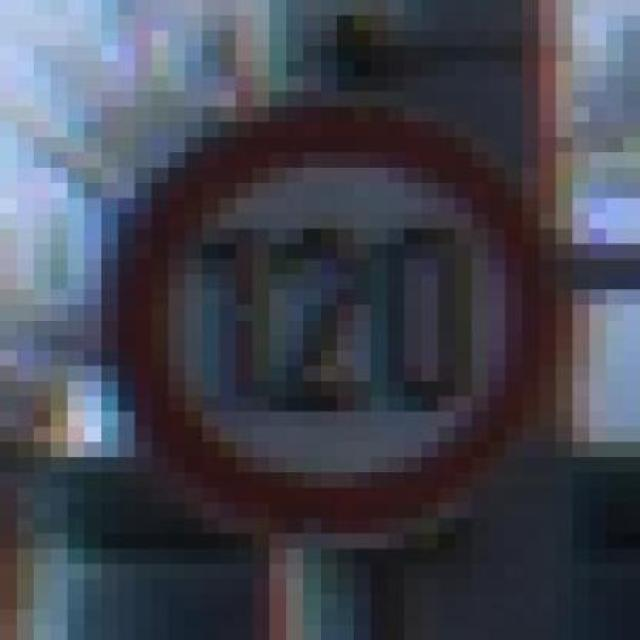forb_speed_over_120: (121, 112, 550, 543)
